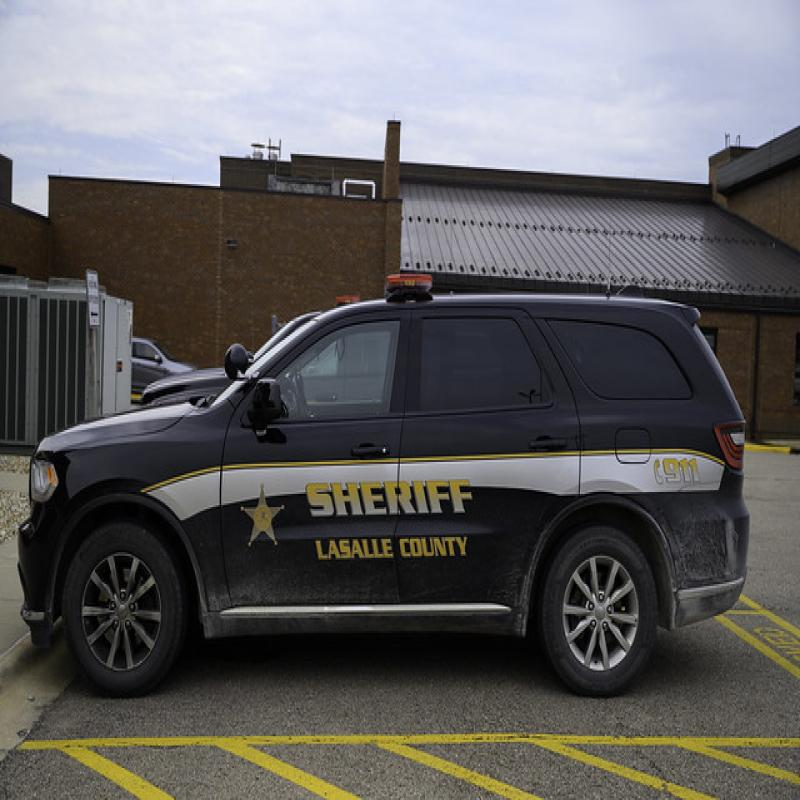AmbulanceSiren: (372, 266, 452, 320)
